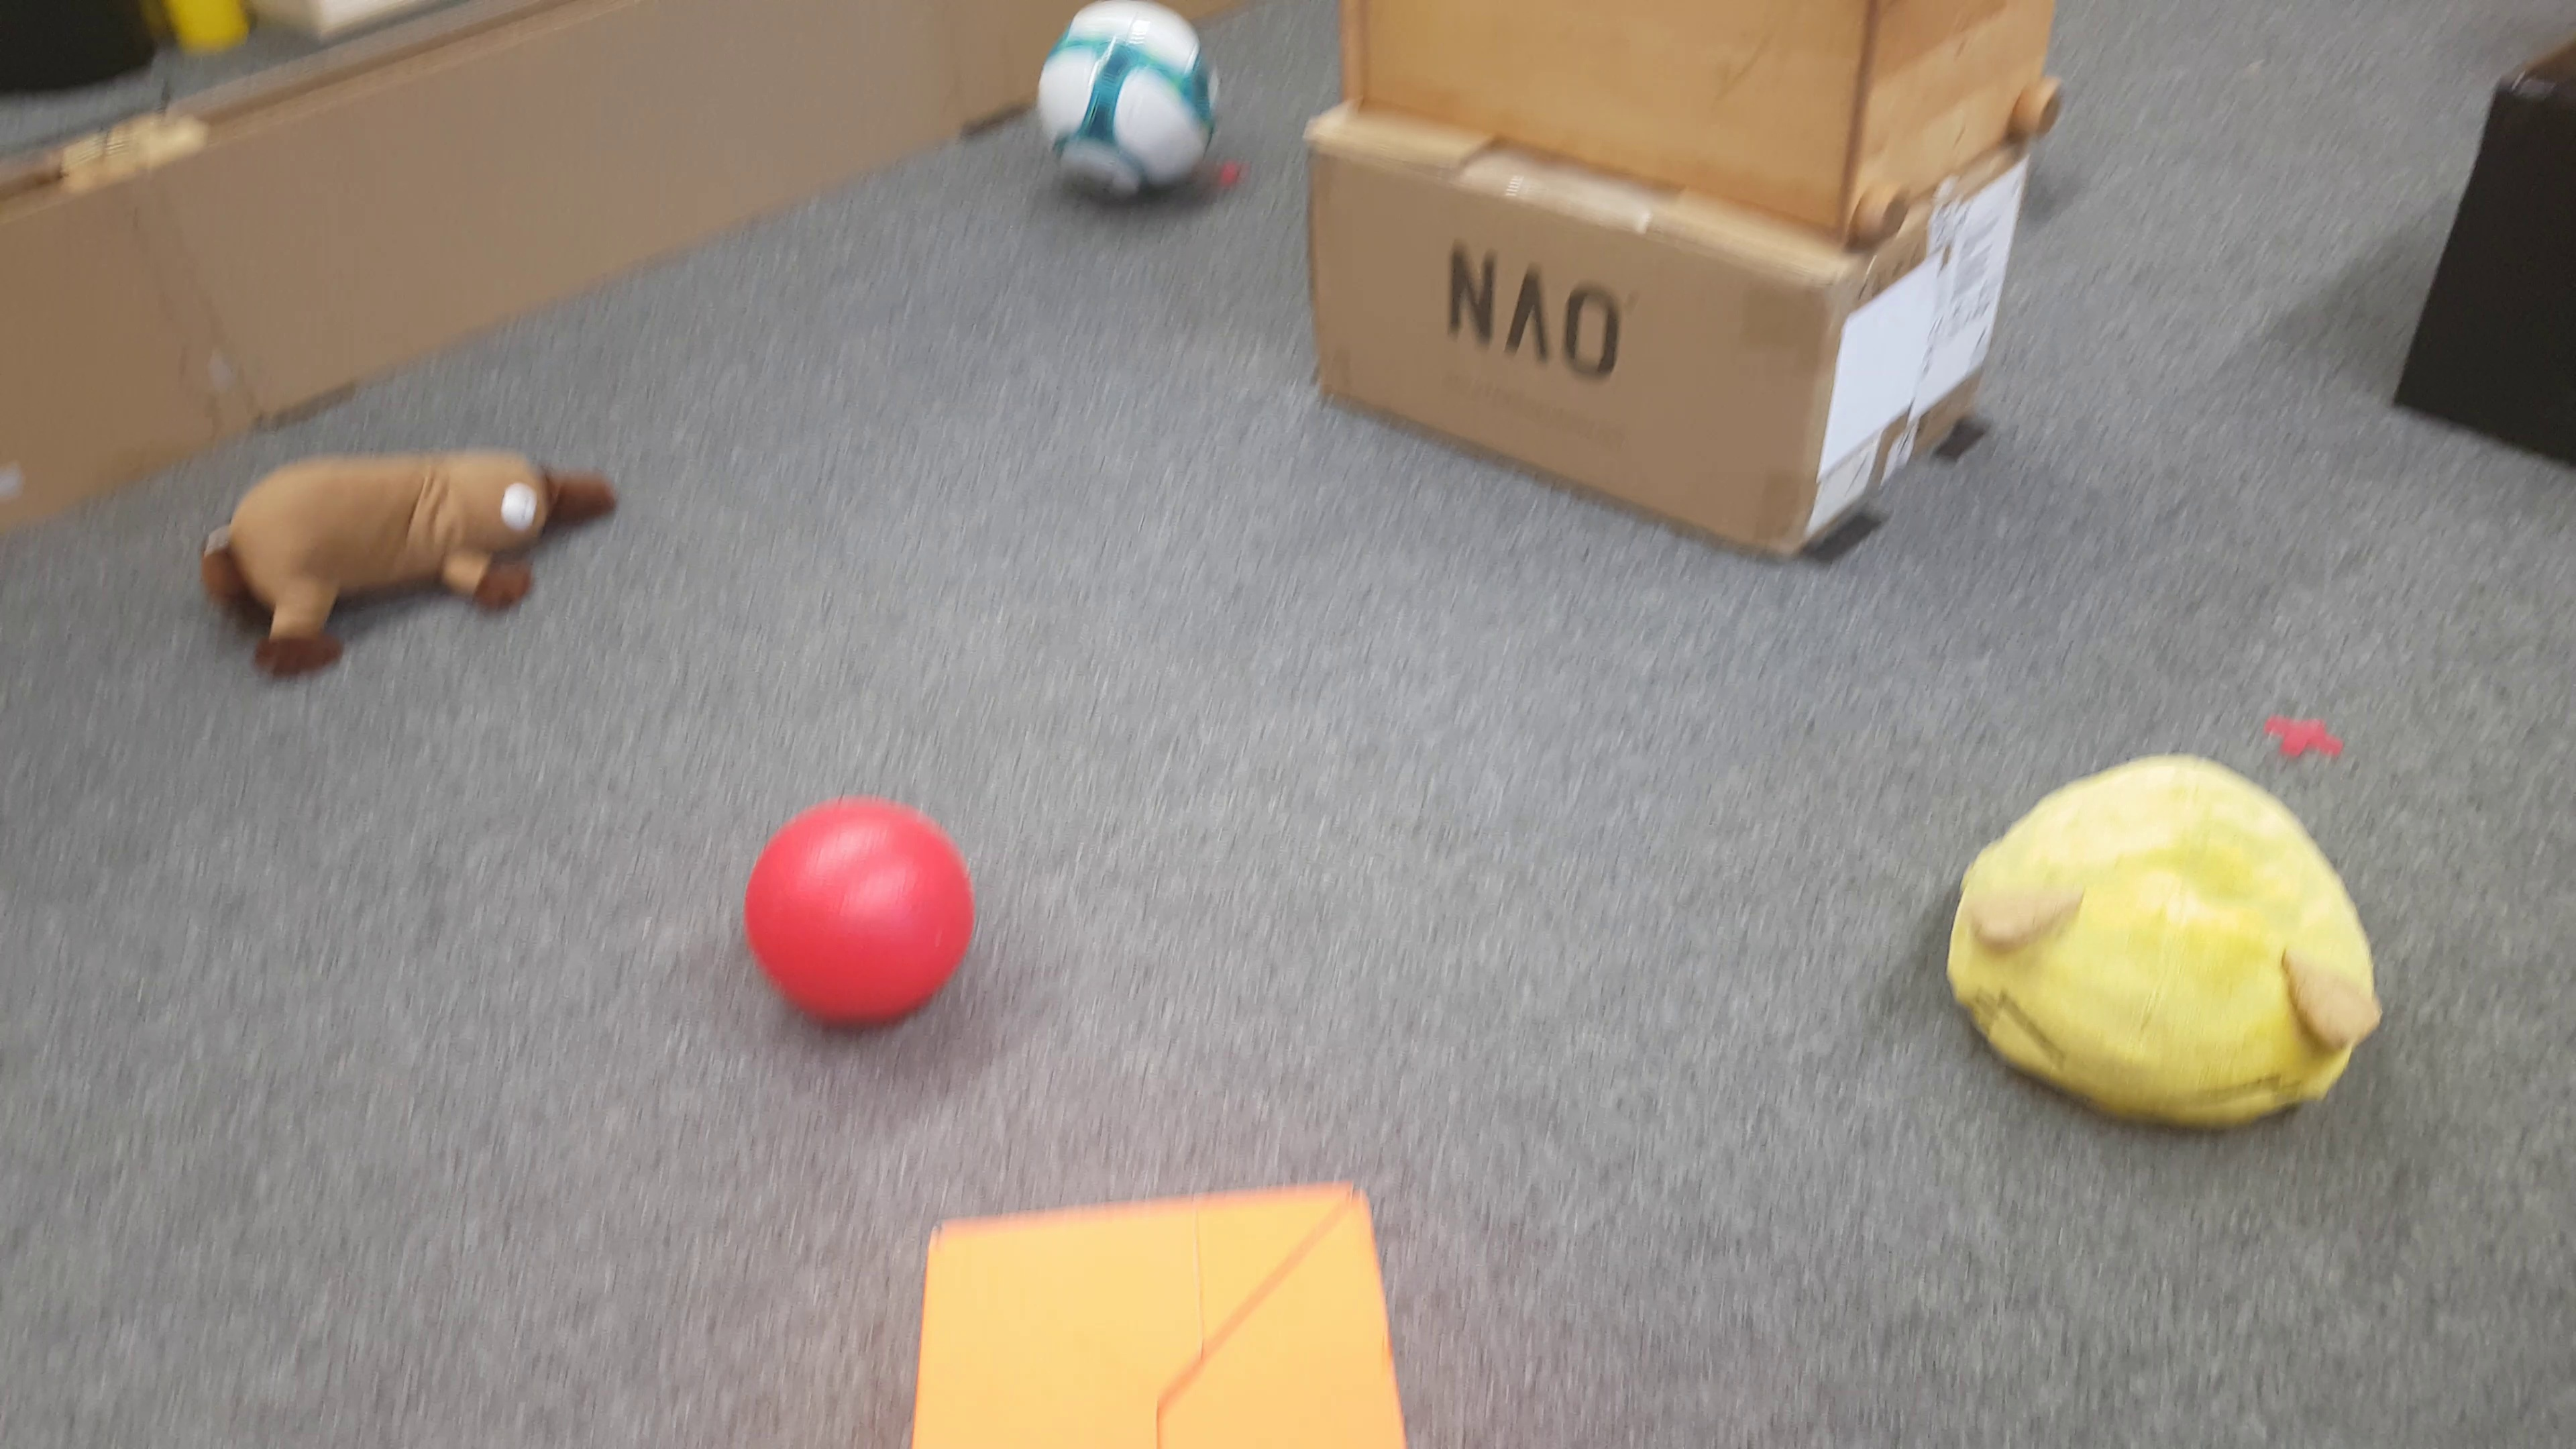grasp: (1939, 743, 2374, 1134), (209, 449, 623, 679)
kick: (743, 796, 980, 1026), (1046, 2, 1223, 205)
push: (901, 1178, 1421, 1449), (2392, 30, 2576, 488)
